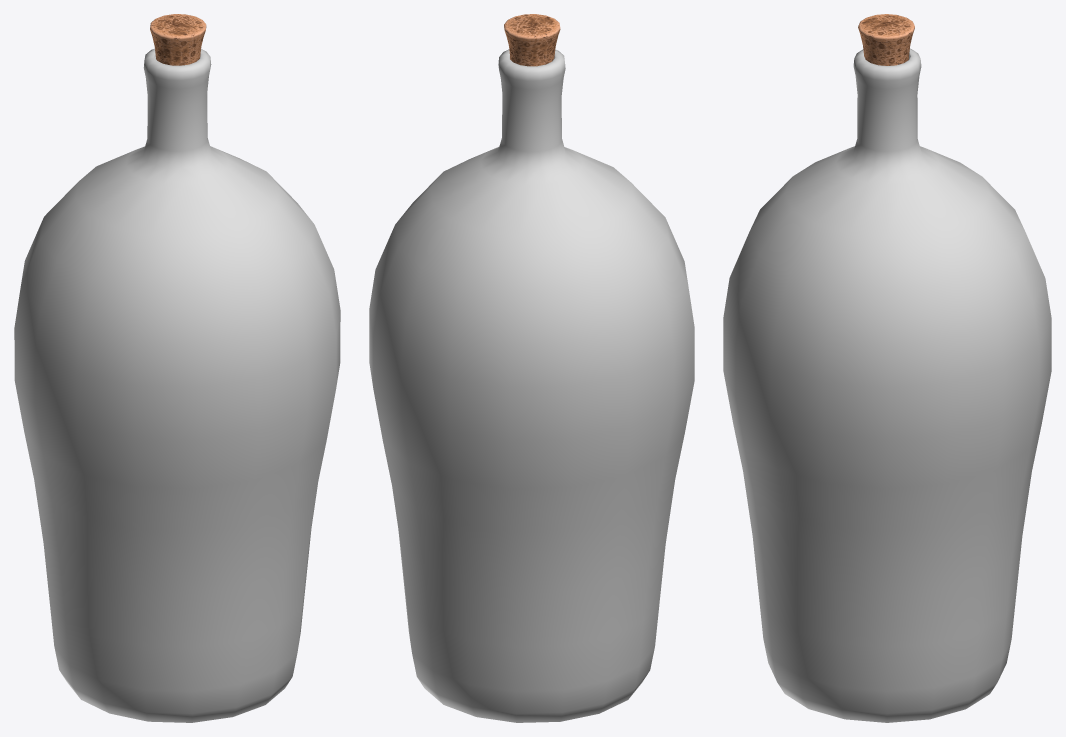
The model's file is Bottle_G.fbx.
3 views of the same model, side by side, from view 1: azimuth 30°, elevation 25°; view 2: azimuth 150°, elevation 25°; view 3: azimuth 270°, elevation 25° (orthographic).
Visible parts, largest first — view 1: Bottle_06; view 2: Bottle_06; view 3: Bottle_06.
Boxes of the visible parts, x1,y1,x2,y2 form: Bottle_06: (14, 14, 340, 722); Bottle_06: (369, 14, 694, 722); Bottle_06: (723, 14, 1051, 722).
Bounding box in the file's own units: 72.81 × 160 × 72.81.
